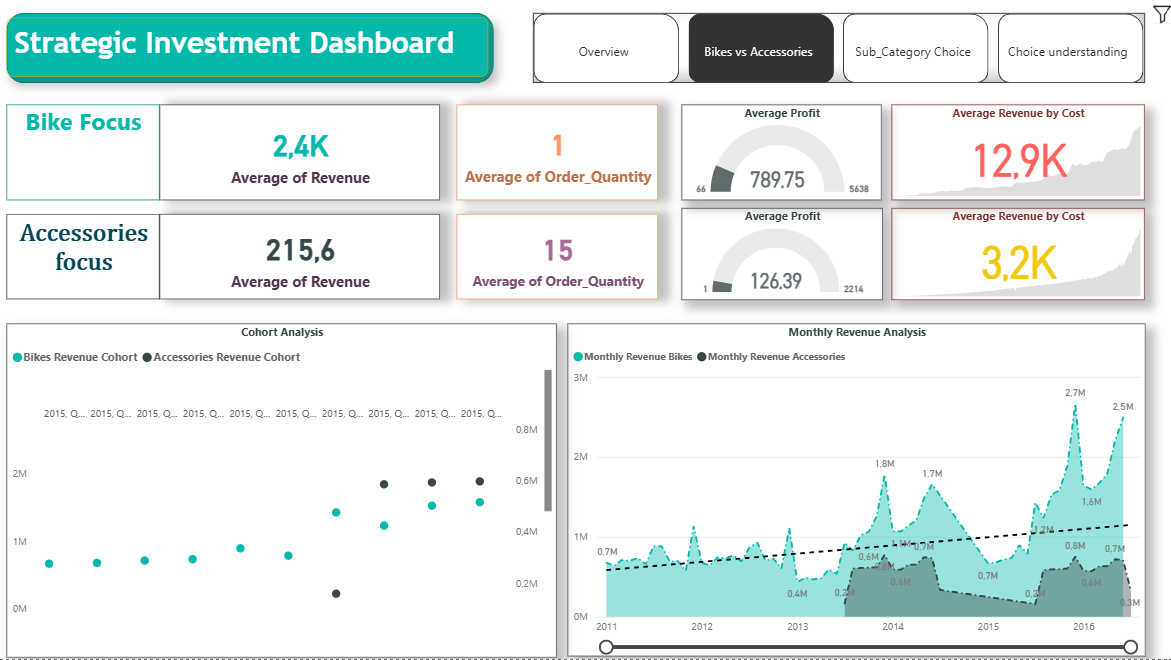

What the dashboard file says about the page in this screenshot:
{"tool":"powerbi","page":{"name":"Bikes vs Accessories","canvas":[1280,720],"ordinal":1},"visuals":[{"type":"card","fields":{"Values":["Avg(sales_bicycles (1).Order_Quantity)"]},"box":[502.8,121.4,217.4,103.2],"z":0},{"type":"card","fields":{"Values":["Avg(sales_bicycles (1).Revenue)"]},"box":[183.4,121.4,302.4,103.2],"z":1000},{"type":"gauge","title":"Average Profit","fields":{"Y":["Avg(sales_bicycles (1).Profit)"],"MinValue":["Min(sales_bicycles (1).Profit)1"],"MaxValue":["Max(sales_bicycles (1).Profit)2"]},"box":[746.9,121.4,216.2,103.2],"z":2000},{"type":"kpi","title":"Average Revenue by Cost","fields":{"Indicator":["Avg(sales_bicycles (1).Revenue)"],"TrendLine":["sales_bicycles (1).Cost"]},"box":[974,121.4,273.2,103.2],"z":3000},{"type":"shape","box":[17.9,21.9,525.8,75.7],"z":4000},{"type":"textbox","box":[17.9,27.9,519.8,63.7],"z":5000},{"type":"card","fields":{"Values":["Avg(sales_bicycles (1).Revenue)"]},"box":[183.4,240.5,302.4,92.3],"z":6000},{"type":"card","fields":{"Values":["Avg(sales_bicycles (1).Order_Quantity)"]},"box":[502.8,240.5,217.4,92.3],"z":7000},{"type":"gauge","title":"Average Profit","fields":{"Y":["Avg(sales_bicycles (1).Profit)"],"MinValue":["Min(sales_bicycles (1).Profit)1"],"MaxValue":["Max(sales_bicycles (1).Profit)2"]},"box":[746.9,233.2,217.4,99.6],"z":8000},{"type":"kpi","title":"Average Revenue by Cost","fields":{"Indicator":["Avg(sales_bicycles (1).Revenue)"],"TrendLine":["sales_bicycles (1).Cost"]},"box":[974,233.2,273.2,99.6],"z":9000},{"type":"lineChart","title":"Cohort Analysis","fields":{"Y2":["sales_bicycles (1).AccessoriesRevenueCohort"],"Y":["sales_bicycles (1).BikeRevenueCohort"],"Category":["sales_bicycles (1).Date.Variation.Date Hierarchy.Year","sales_bicycles (1).Date.Variation.Date Hierarchy.Quarter","sales_bicycles (1).Date.Variation.Date Hierarchy.Month"],"Rows":["sales_bicycles (1).CohortGroup.Variation.Date Hierarchy.Year","sales_bicycles (1).CohortGroup.Variation.Date Hierarchy.Quarter","sales_bicycles (1).CohortGroup.Variation.Date Hierarchy.Month"]},"box":[18.2,358.3,593.9,360.7],"z":10000},{"type":"lineChart","title":"Monthly Revenue Analysis","fields":{"Y":["sales_bicycles (1).MonthlyRevenueBikes","sales_bicycles (1).MonthlyRevenueAcc"],"Category":["sales_bicycles (1).Date.Variation.Date Hierarchy.Year","sales_bicycles (1).Date.Variation.Date Hierarchy.Quarter","sales_bicycles (1).Date.Variation.Date Hierarchy.Month"]},"box":[623,358.3,624.2,359.5],"z":11000},{"type":"textbox","title":"Bike Focus","box":[18.2,121.4,165.2,103.2],"z":12000},{"type":"textbox","box":[18.2,240.5,165.2,92.3],"z":13000},{"type":"pageNavigator","box":[586.6,21.9,660.6,75.3],"z":14000},{"type":"actionButton","box":[1251.7,0,28.3,49],"z":15000}]}

Visuals, with their boxes in screenshot pixels (x1, y1, x2, y2), scaled from the page's 1280x720 canvas onto the 1171x660 screenshot:
card - Avg(sales_bicycles (1).Order_Quantity): 460/111/659/206
card - Avg(sales_bicycles (1).Revenue): 168/111/444/206
"Average Profit" gauge: 683/111/881/206
"Average Revenue by Cost" kpi: 891/111/1141/206
shape: 16/20/497/89
textbox: 16/26/492/84
card - Avg(sales_bicycles (1).Revenue): 168/220/444/305
card - Avg(sales_bicycles (1).Order_Quantity): 460/220/659/305
"Average Profit" gauge: 683/214/882/305
"Average Revenue by Cost" kpi: 891/214/1141/305
"Cohort Analysis" lineChart: 17/328/560/659
"Monthly Revenue Analysis" lineChart: 570/328/1141/658
"Bike Focus" textbox: 17/111/168/206
textbox: 17/220/168/305
pageNavigator: 537/20/1141/89
actionButton: 1145/0/1170/45
